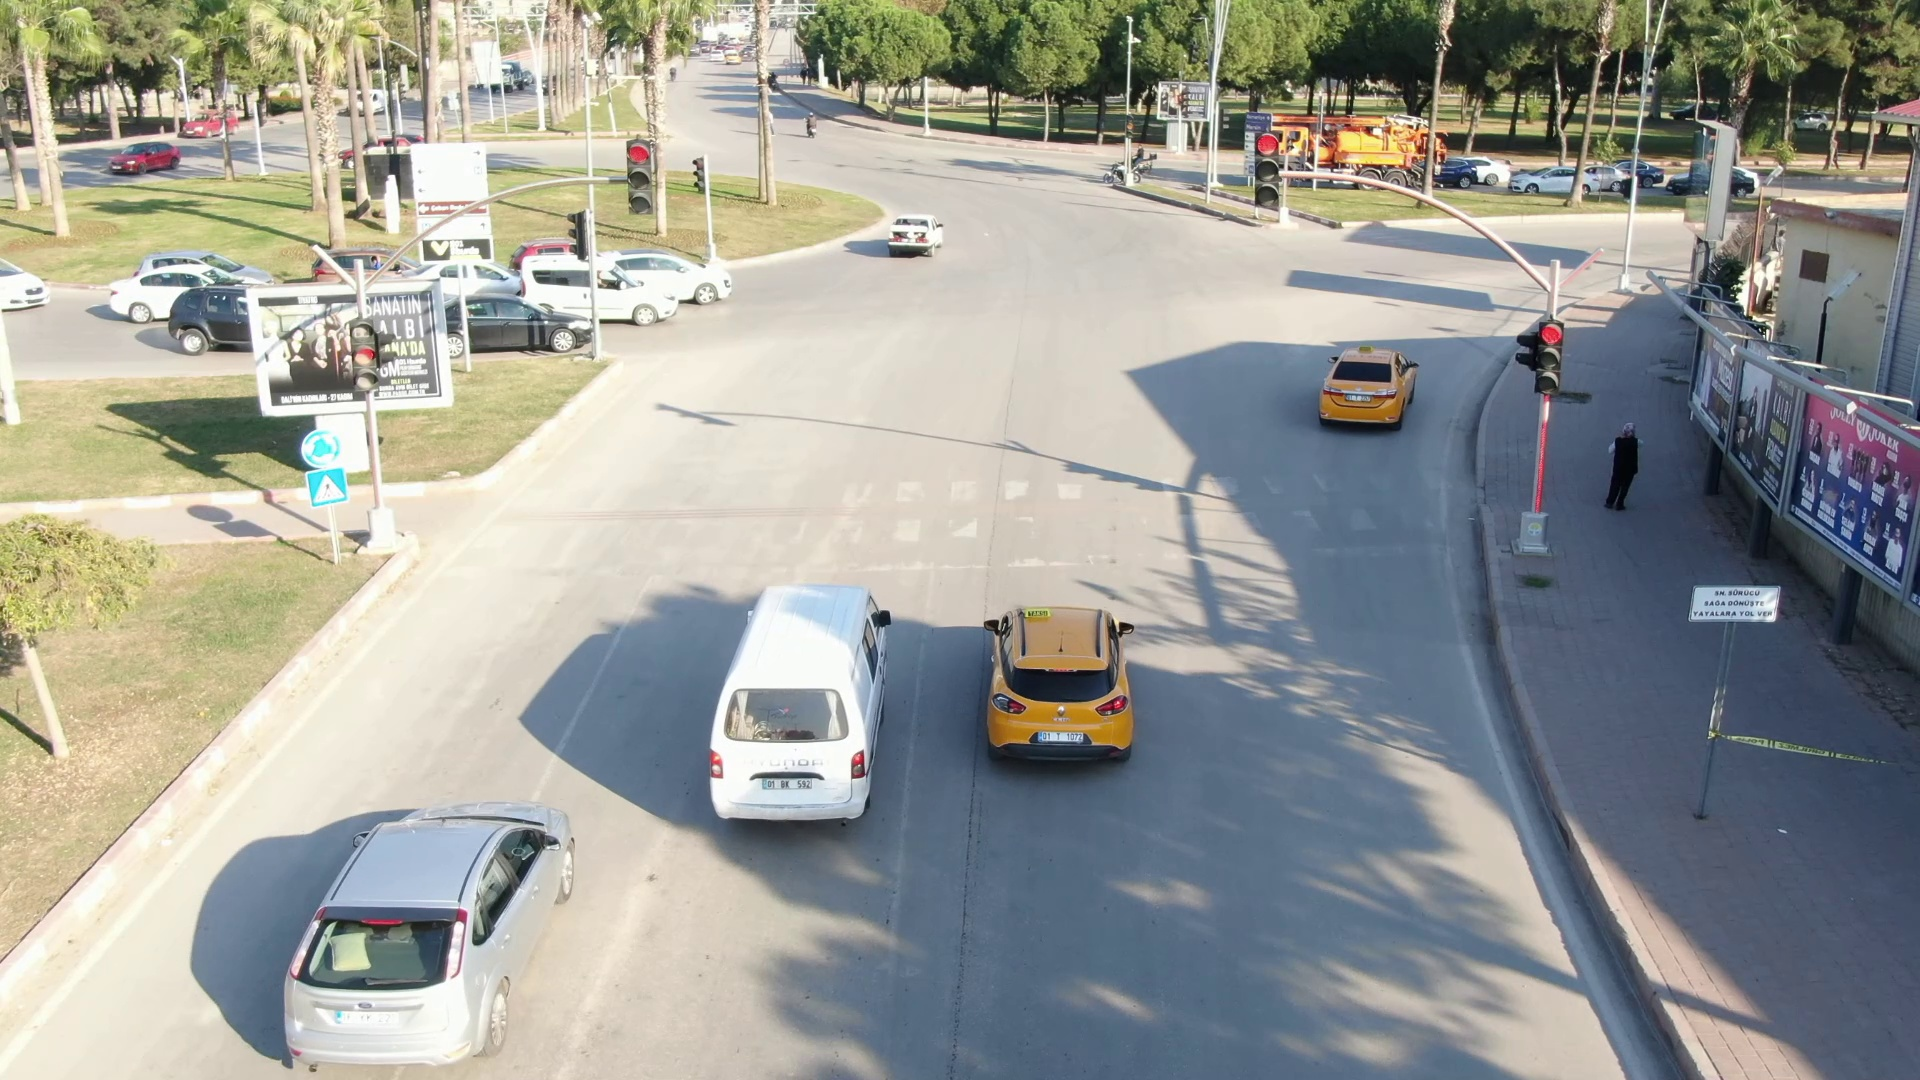car: (278, 796, 598, 1063), (704, 582, 904, 855), (966, 600, 1149, 792), (510, 247, 686, 321), (1317, 339, 1423, 447), (425, 290, 602, 353), (166, 286, 317, 359), (614, 247, 739, 306), (112, 265, 278, 308), (284, 253, 431, 282), (394, 261, 515, 288), (876, 210, 939, 255), (102, 145, 196, 172)
person: (1590, 412, 1657, 519)
